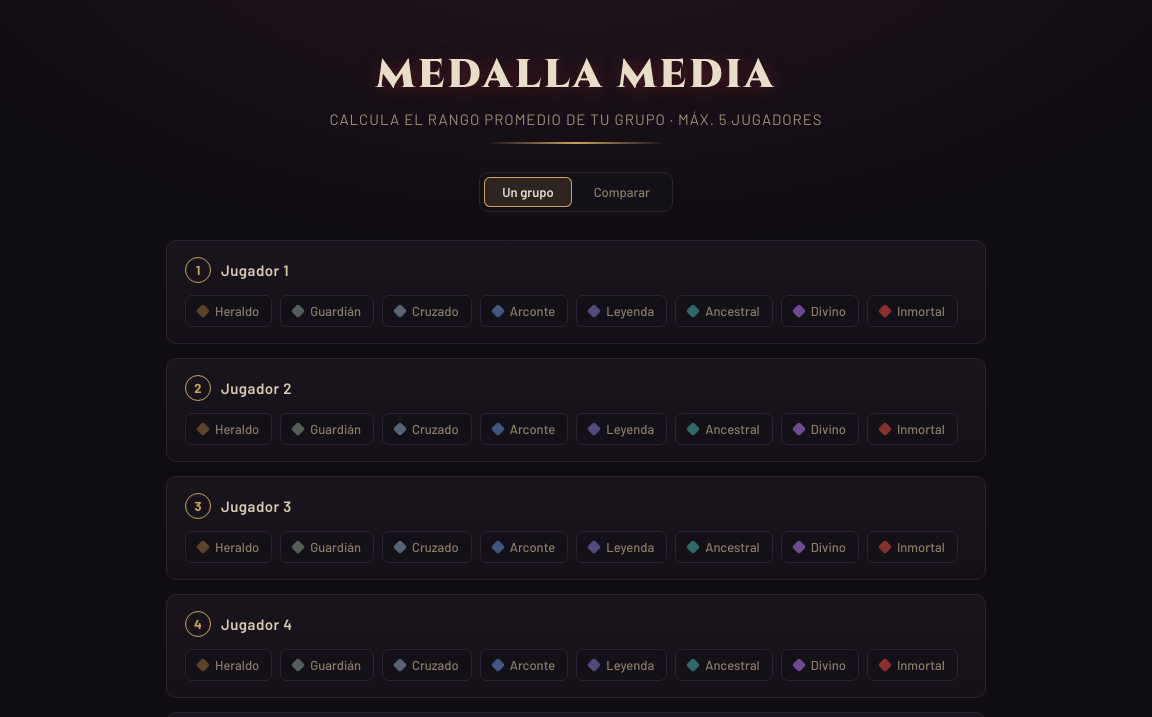
Scenario: App · comparison mode › reveals two group tabs when comparison mode is turned on
This screenshot has width=1152, height=717.
Click the button "Comparar" at (622, 192), box [576,177,668,207]
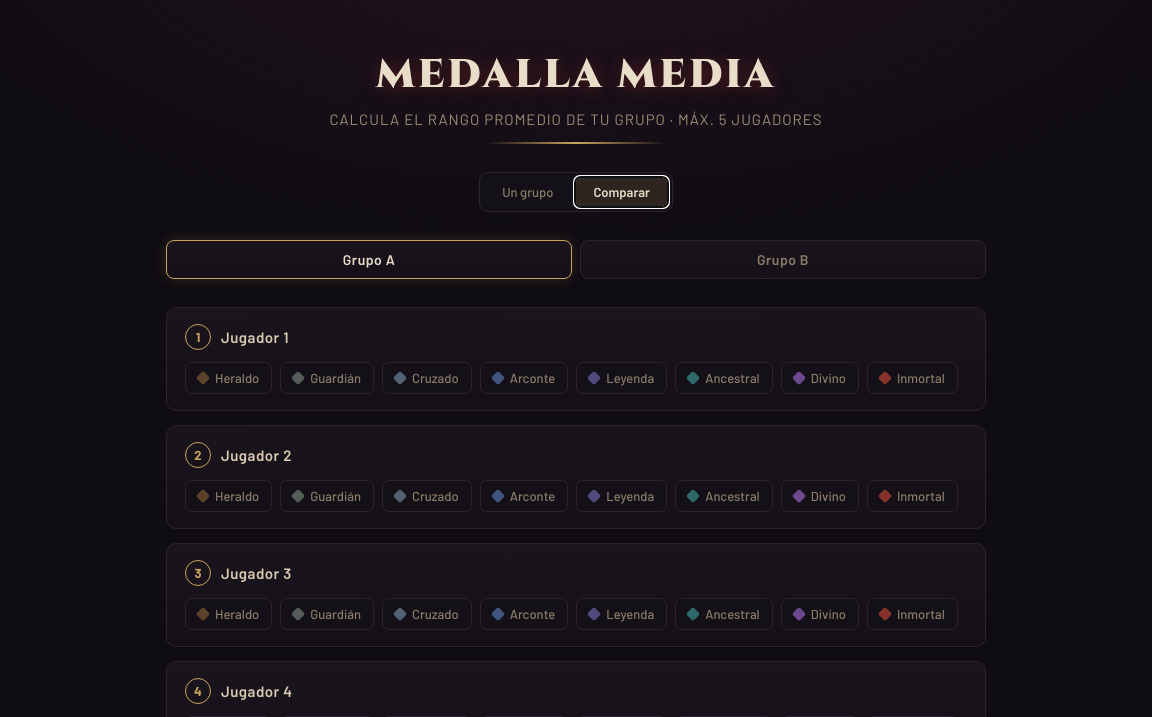
Expected: the tab "Grupo A" is shown, [166,240,572,279]
Expected: the tab "Grupo B" is shown, [580,240,986,279]
